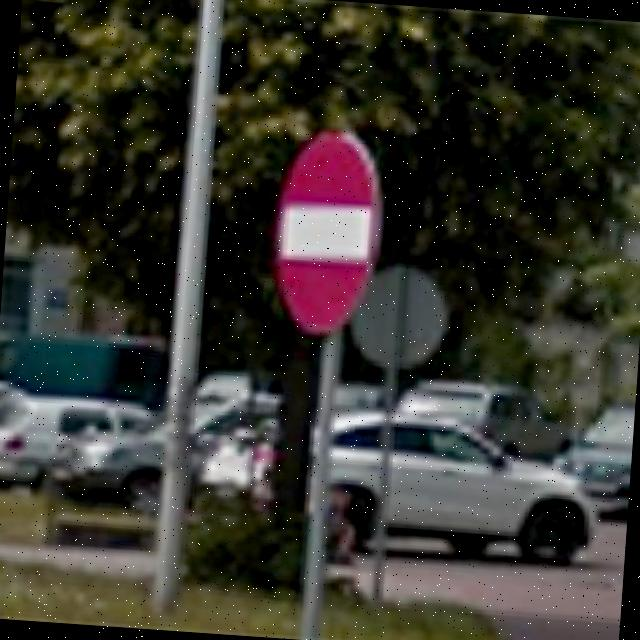Zakaz wjazdu: (270, 126, 386, 340)
